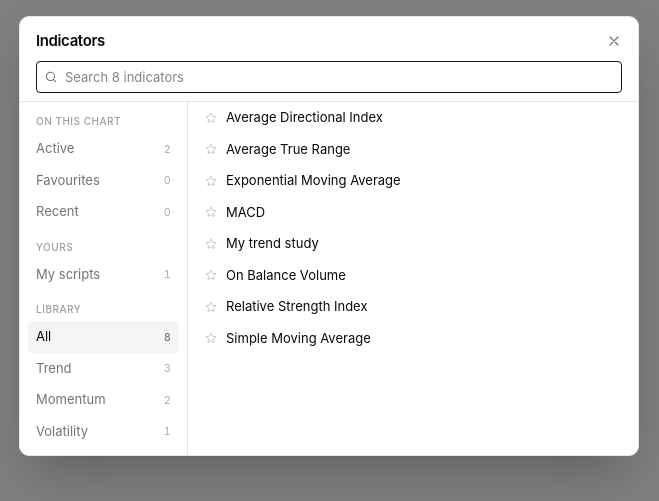
the trader's own studies › keeps them out of the library categories they happen to name
The width and height of the screenshot is (659, 501).
Click the button with aria-label "Trend, 3 indicators": (104, 368) left=28, top=352, right=179, bottom=384
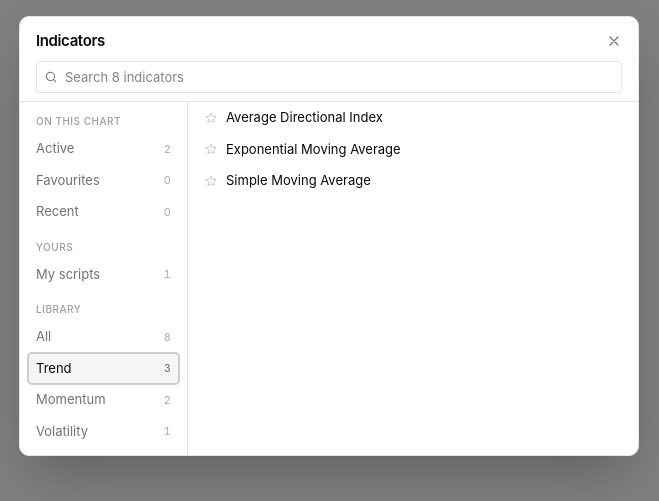
Result: the button "My trend study" is gone
